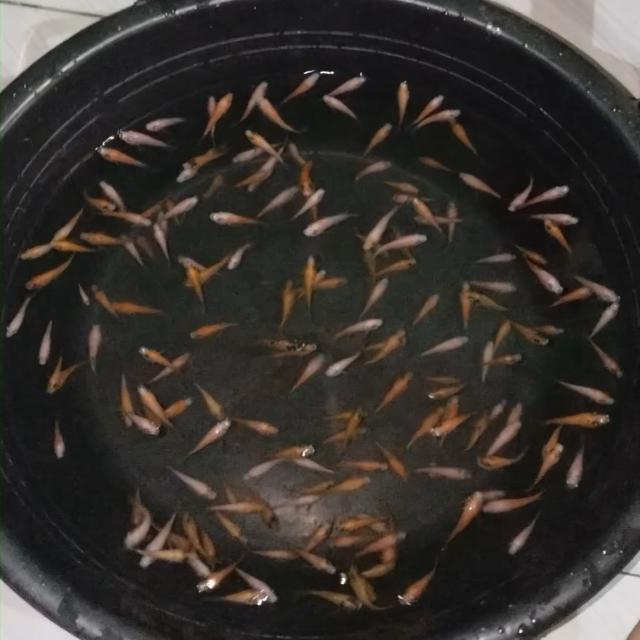nila: (437, 488, 483, 552), (551, 372, 622, 408), (23, 248, 79, 293), (137, 512, 178, 570), (291, 584, 370, 614), (254, 90, 306, 134), (394, 561, 442, 607), (346, 562, 390, 612), (228, 562, 279, 604), (241, 483, 284, 532), (114, 498, 154, 550), (194, 554, 248, 592), (248, 140, 287, 192), (136, 386, 178, 434), (348, 507, 411, 539), (166, 462, 219, 500), (182, 420, 232, 460), (502, 510, 545, 555), (404, 406, 446, 452), (198, 90, 236, 140), (182, 250, 232, 288), (373, 371, 417, 414), (363, 202, 399, 254), (520, 253, 565, 294), (147, 518, 200, 552), (176, 144, 221, 184), (371, 230, 431, 260), (586, 335, 624, 382), (284, 351, 326, 393), (443, 114, 483, 158), (412, 334, 474, 362), (432, 394, 464, 448), (48, 204, 88, 246), (354, 121, 394, 163), (483, 417, 525, 457), (244, 129, 289, 166), (328, 315, 383, 345), (356, 276, 390, 324), (254, 183, 298, 220), (474, 492, 548, 514), (138, 344, 188, 376), (181, 510, 213, 560), (286, 186, 328, 224), (410, 196, 447, 238), (305, 210, 360, 238), (353, 530, 408, 558), (502, 314, 550, 346), (336, 506, 390, 534), (542, 216, 578, 258), (407, 461, 479, 482), (286, 545, 338, 574), (3, 292, 34, 340), (569, 274, 622, 302), (428, 408, 481, 436), (210, 509, 250, 546), (192, 381, 228, 422), (588, 299, 622, 342), (376, 441, 410, 484), (478, 443, 533, 469), (280, 70, 322, 104), (455, 170, 502, 200), (412, 106, 464, 133), (370, 328, 406, 367), (238, 78, 268, 124), (296, 518, 334, 554), (148, 351, 189, 384), (115, 364, 136, 428), (460, 406, 490, 450), (182, 263, 210, 310), (518, 184, 572, 208), (322, 74, 371, 100), (409, 92, 446, 126), (408, 292, 442, 329), (231, 142, 288, 164), (98, 146, 150, 170), (52, 358, 91, 390), (208, 211, 273, 230), (158, 192, 202, 220), (531, 446, 565, 482), (120, 130, 178, 151), (321, 94, 364, 122), (340, 402, 364, 452), (391, 226, 421, 266), (298, 175, 320, 229), (540, 412, 614, 428), (90, 284, 120, 323), (465, 274, 518, 296), (276, 274, 296, 332), (242, 456, 286, 482), (187, 320, 244, 340), (508, 172, 536, 212), (108, 298, 170, 316), (295, 266, 326, 302), (379, 506, 398, 564), (567, 438, 589, 488), (121, 409, 160, 437), (78, 230, 142, 247), (86, 320, 104, 380), (134, 545, 188, 565), (246, 336, 306, 354), (463, 290, 512, 312), (284, 274, 351, 290), (548, 286, 594, 309), (223, 239, 256, 271), (208, 588, 266, 606), (230, 416, 282, 436), (268, 341, 320, 361), (246, 542, 303, 560), (324, 352, 362, 379), (264, 442, 315, 462), (354, 229, 390, 257), (526, 208, 582, 226), (48, 237, 101, 256), (102, 208, 152, 228), (334, 458, 389, 476), (268, 493, 320, 512), (512, 240, 550, 266), (326, 530, 380, 548), (178, 256, 222, 278), (138, 386, 160, 430), (304, 249, 318, 318), (426, 378, 468, 401), (292, 454, 340, 474), (98, 178, 126, 212), (376, 256, 417, 279), (182, 150, 234, 168), (322, 426, 374, 444), (443, 196, 461, 248), (458, 488, 510, 506), (228, 166, 270, 188), (37, 314, 54, 368), (348, 160, 396, 179), (178, 552, 210, 580), (458, 279, 476, 328), (360, 249, 380, 293), (478, 352, 526, 370), (45, 353, 65, 396), (479, 337, 498, 382), (131, 231, 156, 265), (416, 153, 456, 174), (196, 524, 218, 562), (324, 476, 368, 495), (121, 233, 145, 267), (409, 213, 467, 227), (151, 226, 172, 264), (206, 91, 220, 146), (82, 192, 114, 216), (389, 191, 440, 206), (17, 240, 55, 260), (492, 316, 513, 352), (322, 405, 369, 421), (129, 202, 160, 226), (218, 470, 238, 507), (142, 115, 188, 131), (396, 78, 410, 130), (470, 250, 522, 264), (287, 140, 311, 170), (360, 560, 400, 578), (419, 370, 464, 386), (358, 569, 379, 603), (207, 500, 266, 512), (543, 423, 566, 453), (204, 172, 228, 200), (128, 484, 144, 526), (380, 178, 422, 194), (484, 398, 512, 422), (160, 398, 193, 418), (296, 478, 332, 496), (52, 417, 66, 460), (528, 321, 568, 336), (166, 194, 183, 229), (506, 398, 526, 426), (298, 154, 317, 183), (361, 338, 406, 350), (156, 204, 172, 236), (75, 282, 92, 308), (475, 457, 502, 473)
